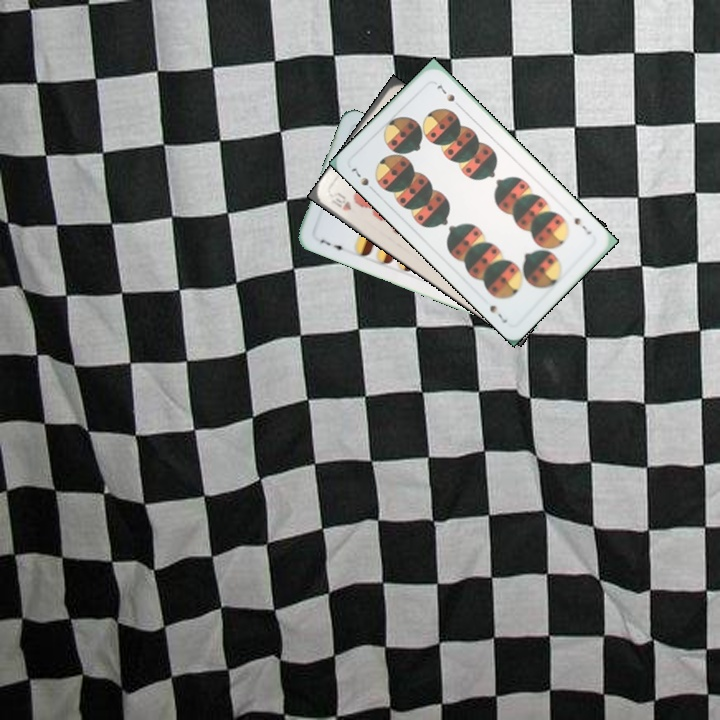E7: (316, 235, 348, 255)
H10: (327, 188, 354, 213)
S7: (346, 164, 371, 189), (570, 214, 594, 237)
